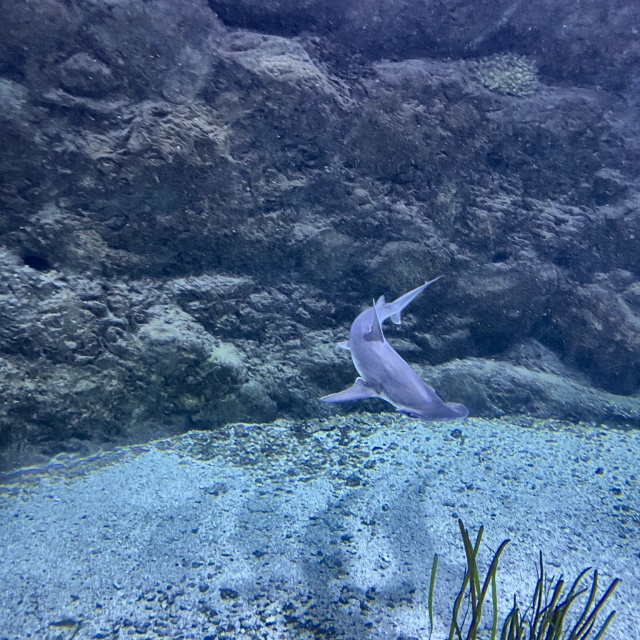shark: (319, 271, 469, 427)
